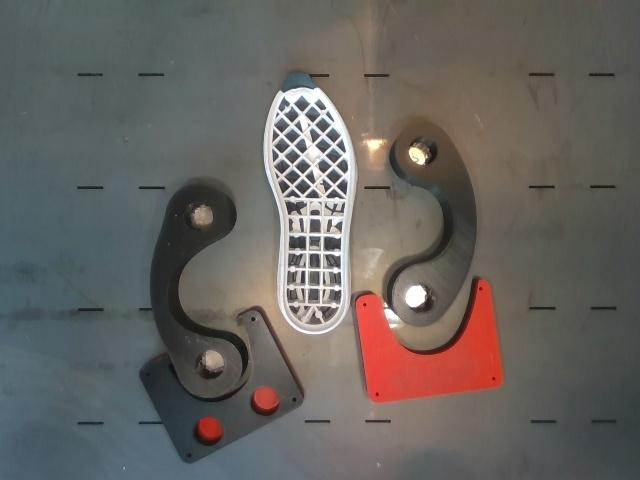shoes: (266, 74, 354, 333)
